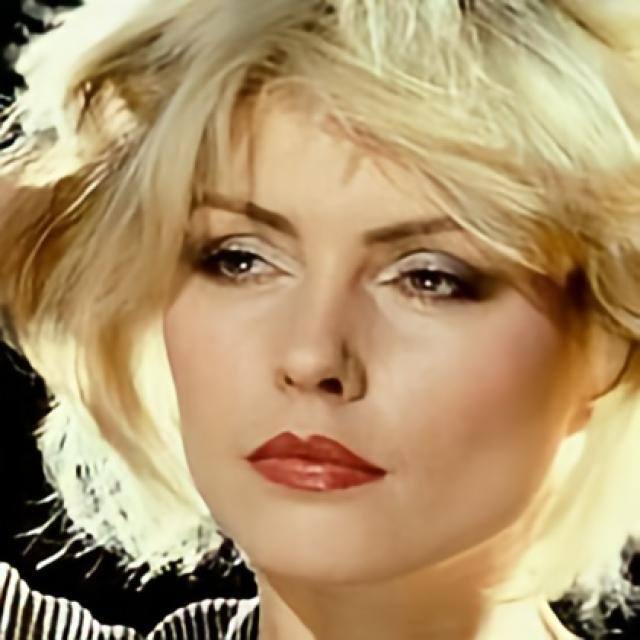neutral: (162, 84, 568, 588)
